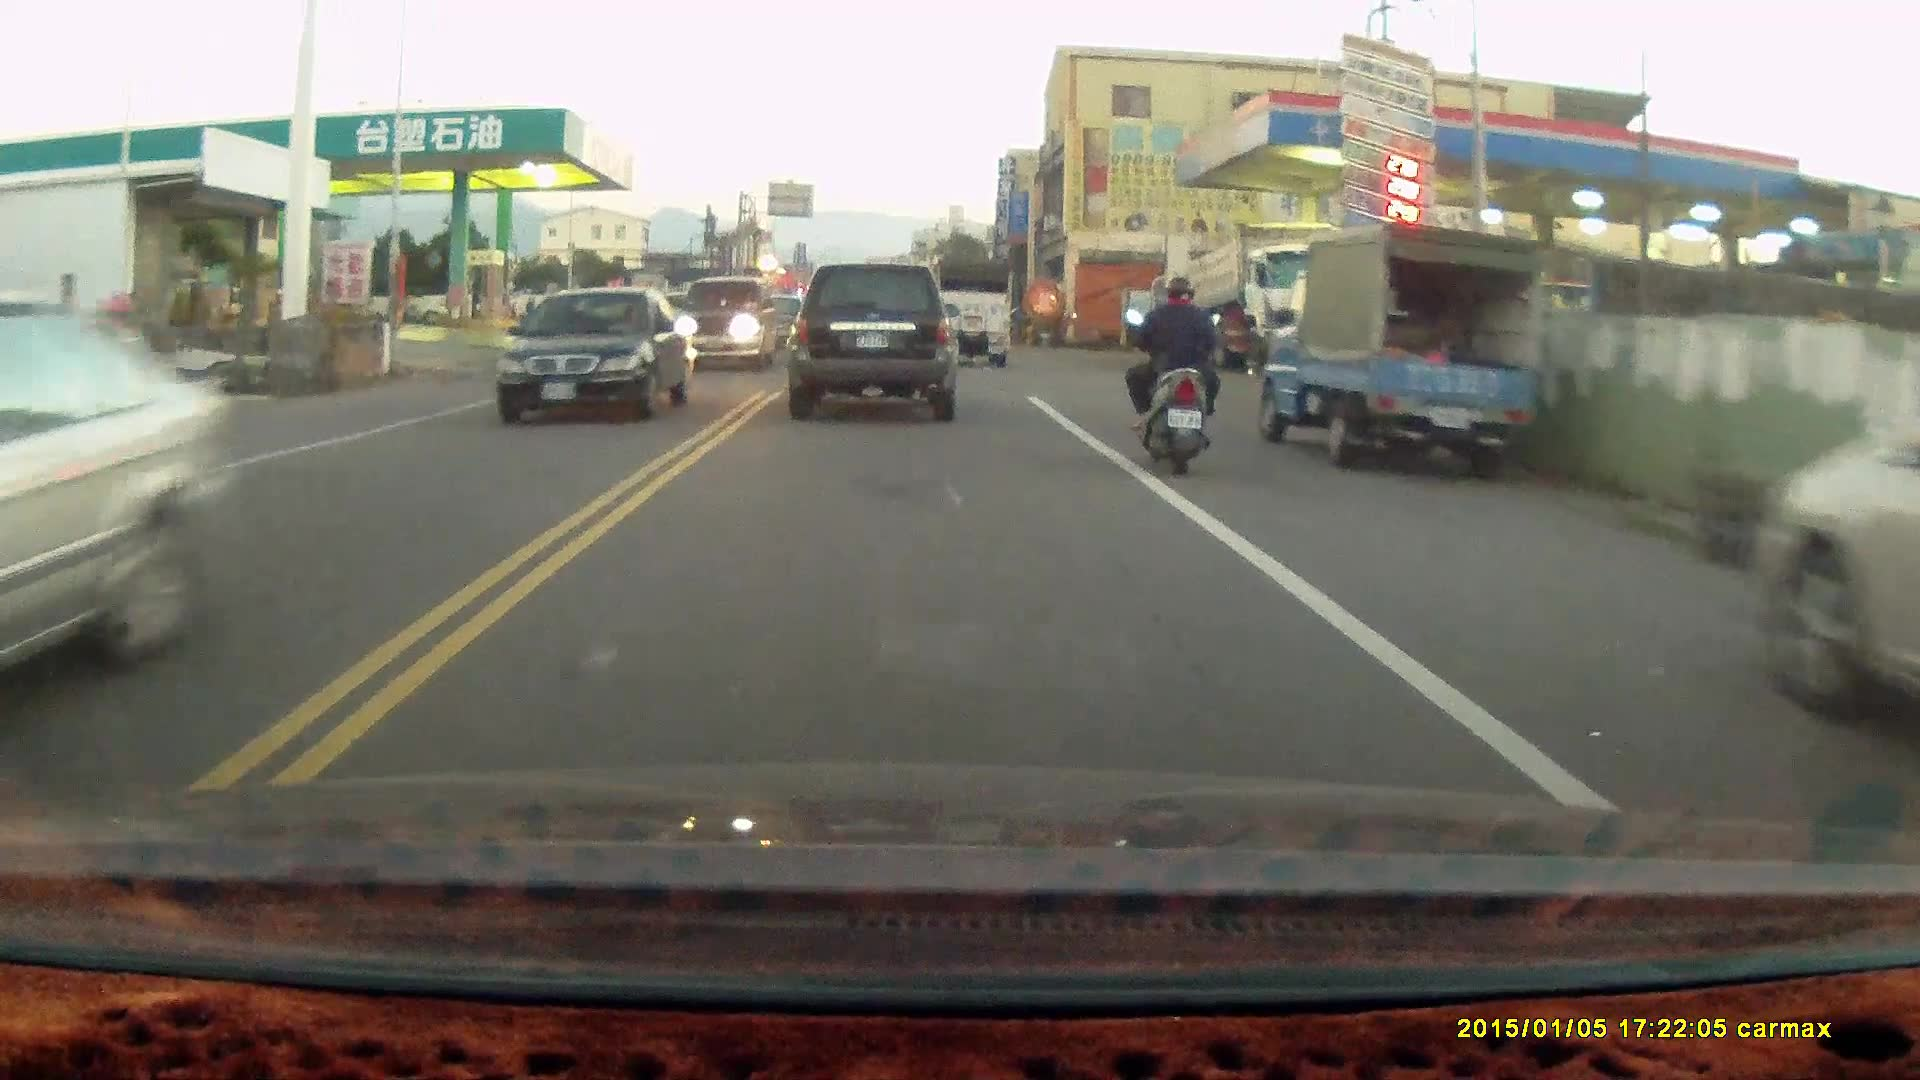rider: (1126, 277, 1226, 477)
vehicle: (1, 290, 243, 709), (1260, 222, 1557, 467), (1748, 388, 1920, 742), (497, 288, 702, 423), (788, 260, 958, 416), (671, 275, 783, 378), (920, 252, 1016, 363)
